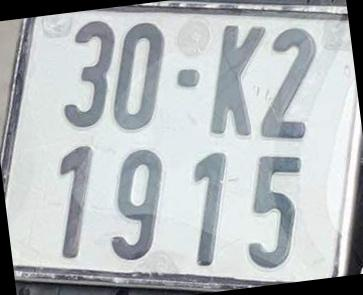-: (176, 69, 198, 86)
0: (117, 25, 162, 129)
1: (57, 147, 93, 259), (192, 152, 225, 265)
2: (267, 29, 316, 134)
3: (64, 22, 112, 124)
5: (249, 157, 300, 268)
9: (116, 149, 162, 259)
K: (213, 26, 260, 133)
